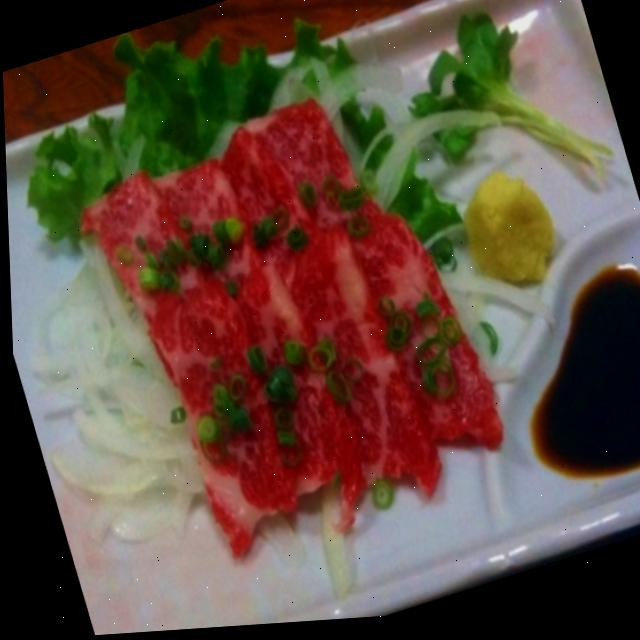刺身生食: (46, 59, 514, 572)
